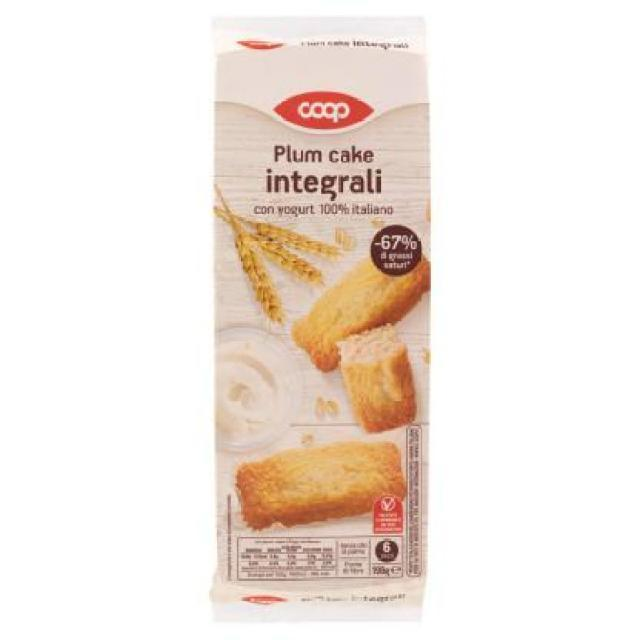Merendine: (173, 73, 458, 624)
